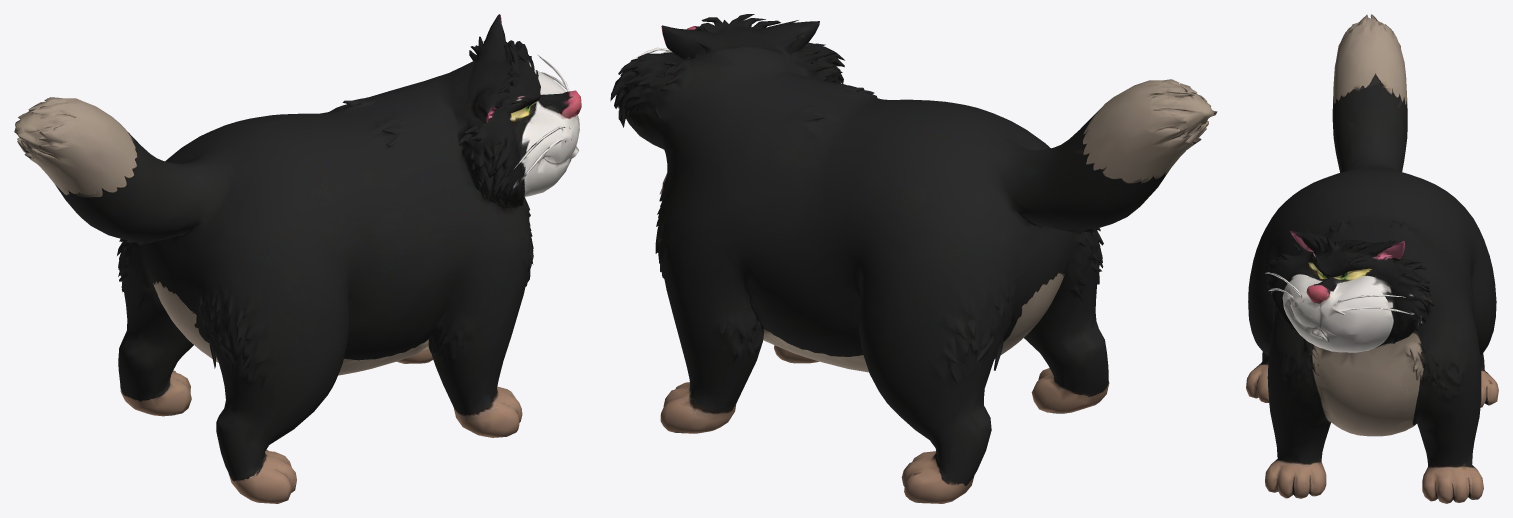
Rendered from TREMAINE.glb.
3 views of the same model, side by side, from view 1: azimuth 30°, elevation 25°; view 2: azimuth 150°, elevation 25°; view 3: azimuth 270°, elevation 25° (orthographic). The views are drawn at different scales.
Visible parts, largest first — view 1: tripo_node_c12a0024-d6d3-4d95-b98f-335bb6ab4392; view 2: tripo_node_c12a0024-d6d3-4d95-b98f-335bb6ab4392; view 3: tripo_node_c12a0024-d6d3-4d95-b98f-335bb6ab4392.
Part boxes in pixels (<box>): tripo_node_c12a0024-d6d3-4d95-b98f-335bb6ab4392: <box>14,14,581,503</box>; tripo_node_c12a0024-d6d3-4d95-b98f-335bb6ab4392: <box>610,14,1217,503</box>; tripo_node_c12a0024-d6d3-4d95-b98f-335bb6ab4392: <box>1246,14,1498,503</box>.
Size of the model in its own units: 1.48 by 1 by 0.7242.
1 material, 1 textured.
